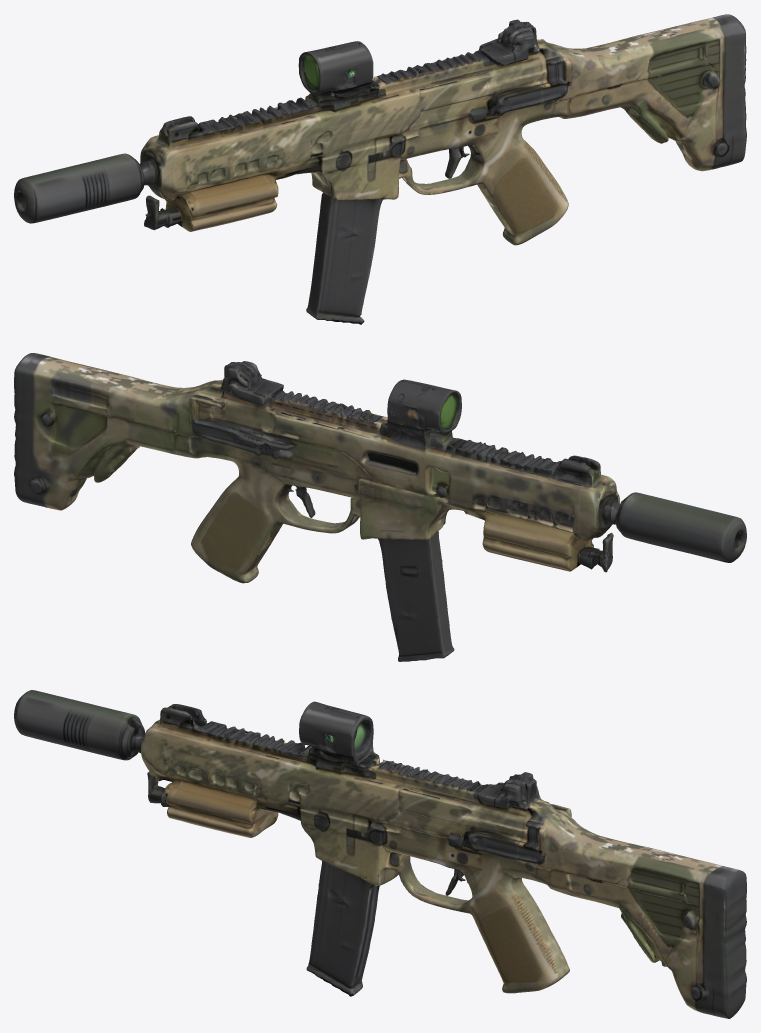
Rendered from weapon2.glb.
The picture shows the model from 3 angles, top to bottom: view 1: azimuth 30°, elevation 25°; view 2: azimuth 150°, elevation 25°; view 3: azimuth 330°, elevation 25°; orthographic projection.
Bounding box in the file's own units: 2 × 0.7406 × 0.1536.
1 material, 1 textured.
